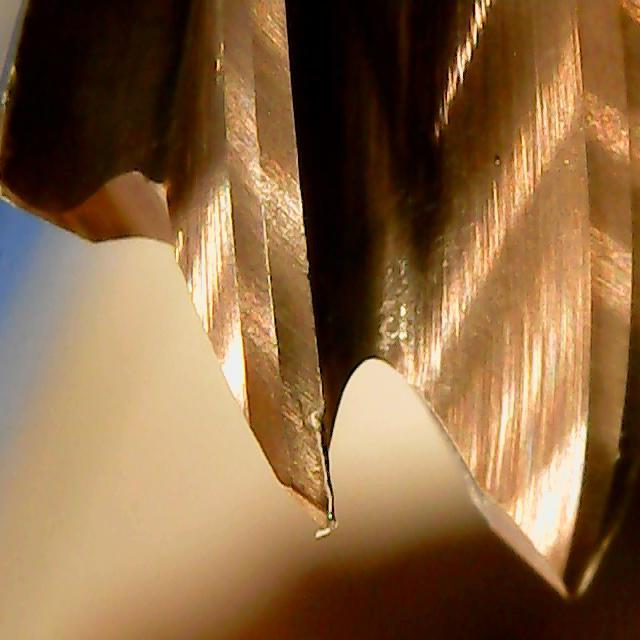Tool-wear-class-1: (213, 208, 346, 540)
